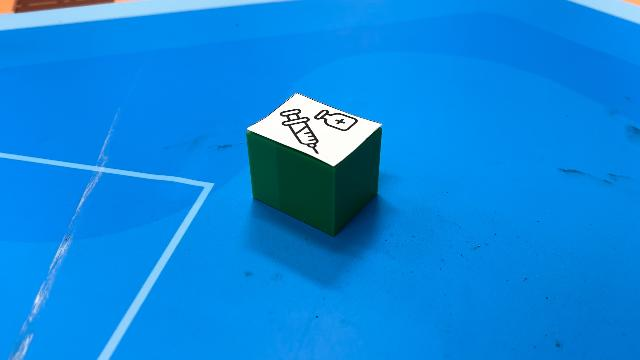syringe: (245, 92, 382, 236)
